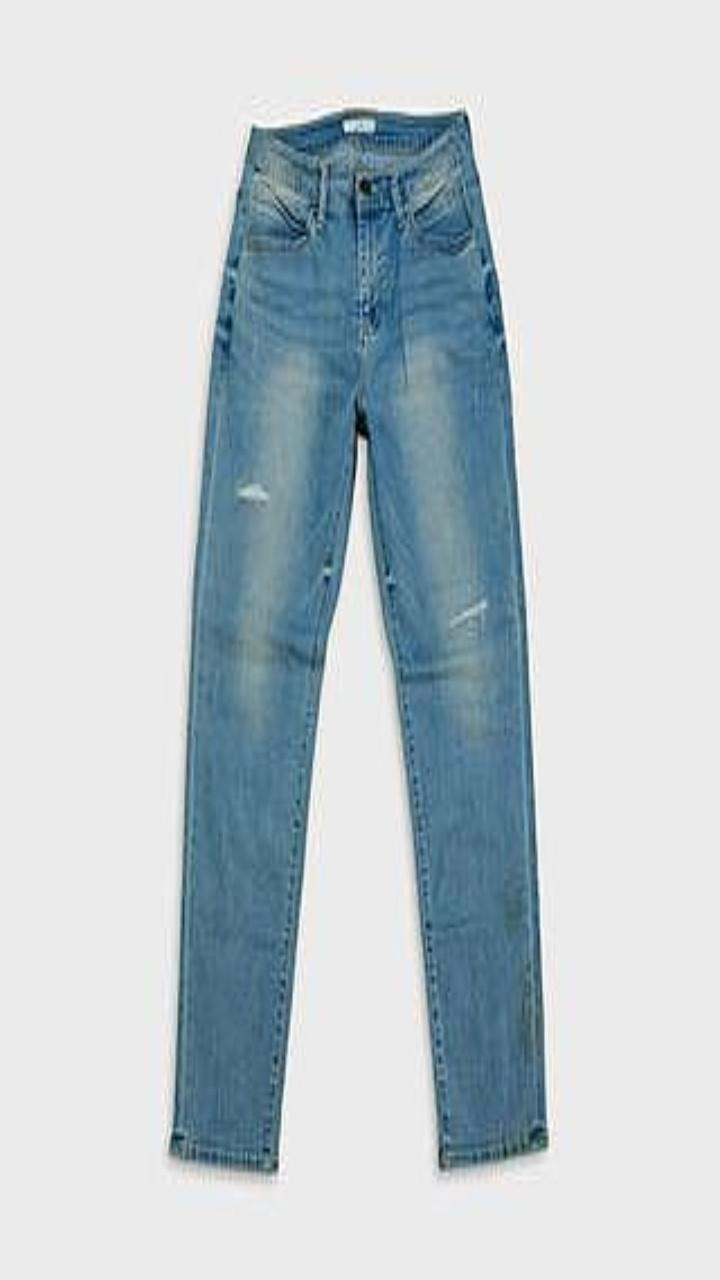Jeans: (170, 109, 547, 1171)
